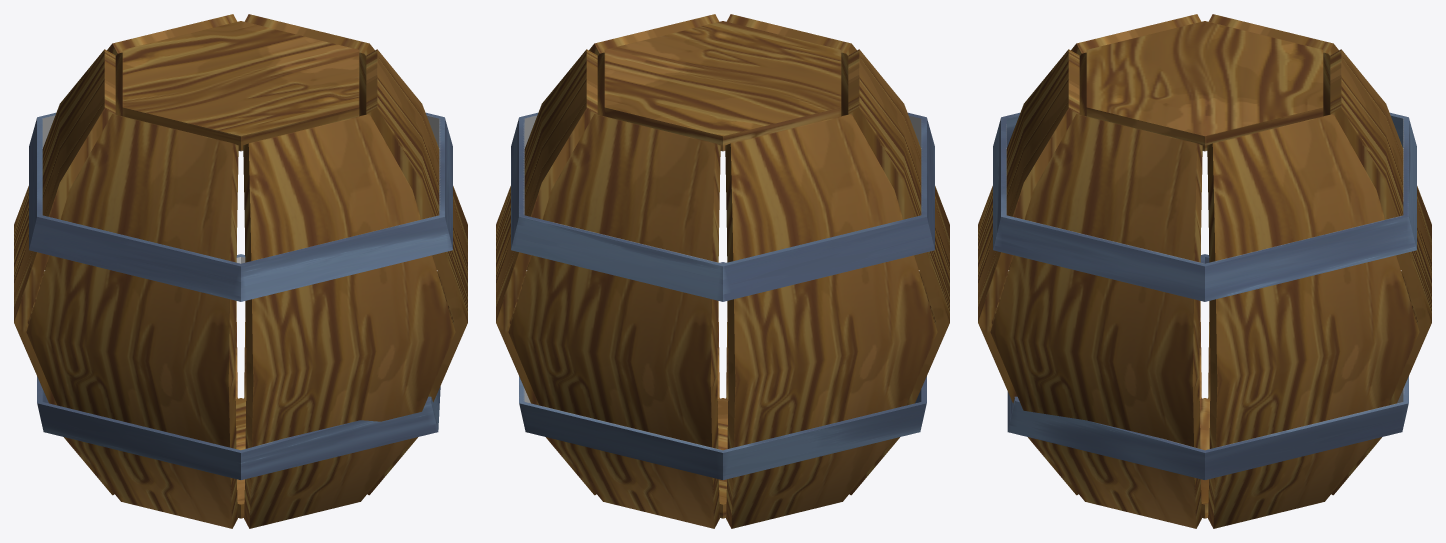
Rendered from PR_Barrel_T.fbx.
3 renders of one model, left to right at view 1: azimuth 30°, elevation 25°; view 2: azimuth 150°, elevation 25°; view 3: azimuth 270°, elevation 25°, orthographic.
Visible parts, largest first — view 1: PR_Barrel__1_:plank01PR_Barrelplank03plank04plank05plank06pl, PR_Barrel__1_:PR_BarrelLid01, PR_Barrel__1_:PR_BarrelRing01, PR_Barrel__1_:PR_BarrelRing02, PR_Barrel__1_:PR_BarrelLid02; view 2: PR_Barrel__1_:plank01PR_Barrelplank03plank04plank05plank06pl, PR_Barrel__1_:PR_BarrelLid01, PR_Barrel__1_:PR_BarrelRing01, PR_Barrel__1_:PR_BarrelRing02, PR_Barrel__1_:PR_BarrelLid02; view 3: PR_Barrel__1_:plank01PR_Barrelplank03plank04plank05plank06pl, PR_Barrel__1_:PR_BarrelLid01, PR_Barrel__1_:PR_BarrelRing01, PR_Barrel__1_:PR_BarrelRing02, PR_Barrel__1_:PR_BarrelLid02.
Part boxes in pixels (x1=…): PR_Barrel__1_:plank01PR_Barrelplank03plank04plank05plank06pl: x1=14, y1=14, x2=467, y2=528; PR_Barrel__1_:PR_BarrelLid01: x1=122, y1=21, x2=359, y2=151; PR_Barrel__1_:PR_BarrelRing01: x1=29, y1=112, x2=452, y2=301; PR_Barrel__1_:PR_BarrelRing02: x1=37, y1=254, x2=440, y2=479; PR_Barrel__1_:PR_BarrelLid02: x1=235, y1=398, x2=246, y2=518; PR_Barrel__1_:plank01PR_Barrelplank03plank04plank05plank06pl: x1=496, y1=14, x2=949, y2=528; PR_Barrel__1_:PR_BarrelLid01: x1=604, y1=21, x2=841, y2=151; PR_Barrel__1_:PR_BarrelRing01: x1=511, y1=112, x2=934, y2=301; PR_Barrel__1_:PR_BarrelRing02: x1=519, y1=262, x2=926, y2=479; PR_Barrel__1_:PR_BarrelLid02: x1=717, y1=398, x2=728, y2=518; PR_Barrel__1_:plank01PR_Barrelplank03plank04plank05plank06pl: x1=978, y1=14, x2=1431, y2=528; PR_Barrel__1_:PR_BarrelLid01: x1=1086, y1=21, x2=1323, y2=151; PR_Barrel__1_:PR_BarrelRing01: x1=993, y1=112, x2=1416, y2=301; PR_Barrel__1_:PR_BarrelRing02: x1=1007, y1=254, x2=1408, y2=479; PR_Barrel__1_:PR_BarrelLid02: x1=1199, y1=398, x2=1210, y2=518.
Size of the model in its own units: 1.46 by 1.23 by 1.3.
